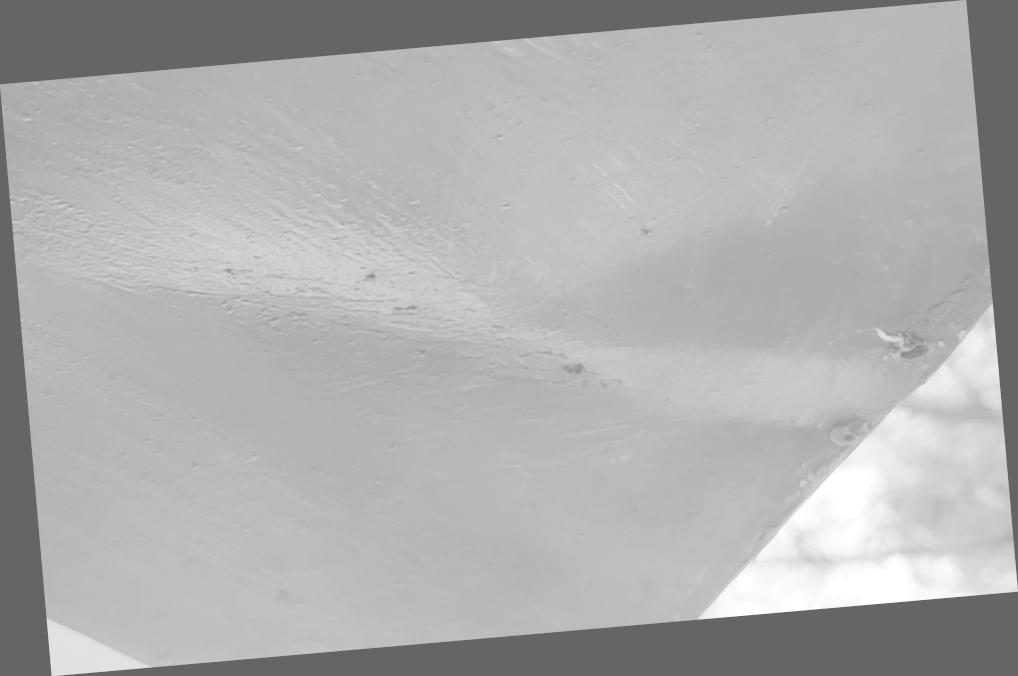dent: (1, 0, 1018, 675)
